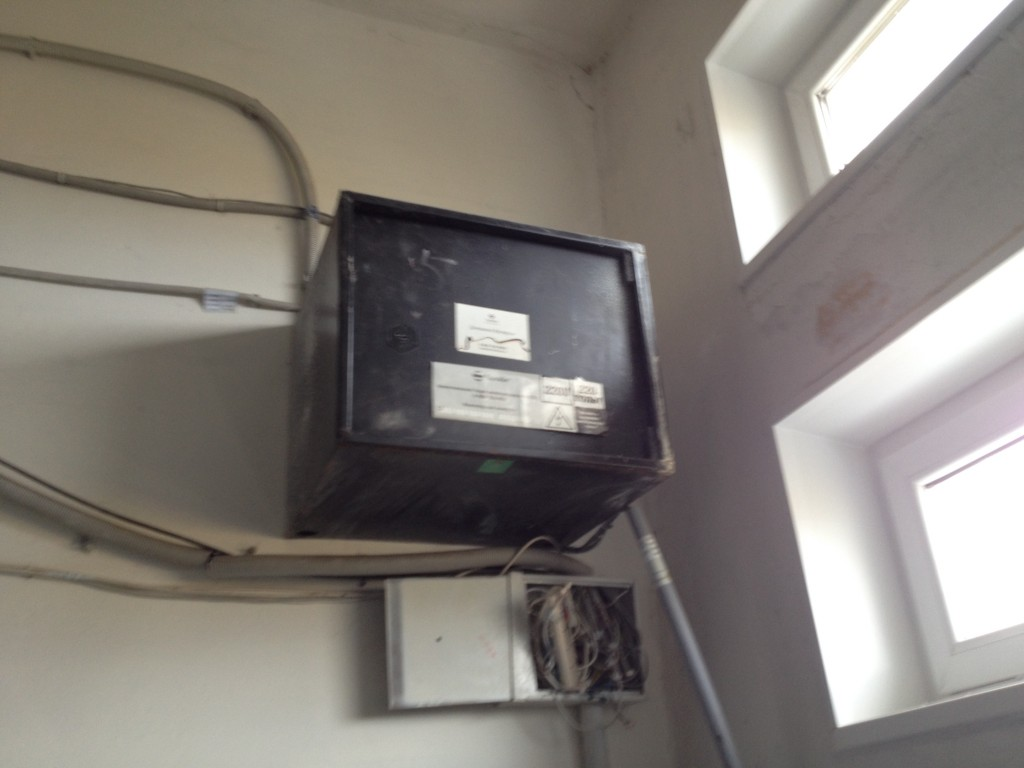shta-9m: (271, 175, 687, 560)
